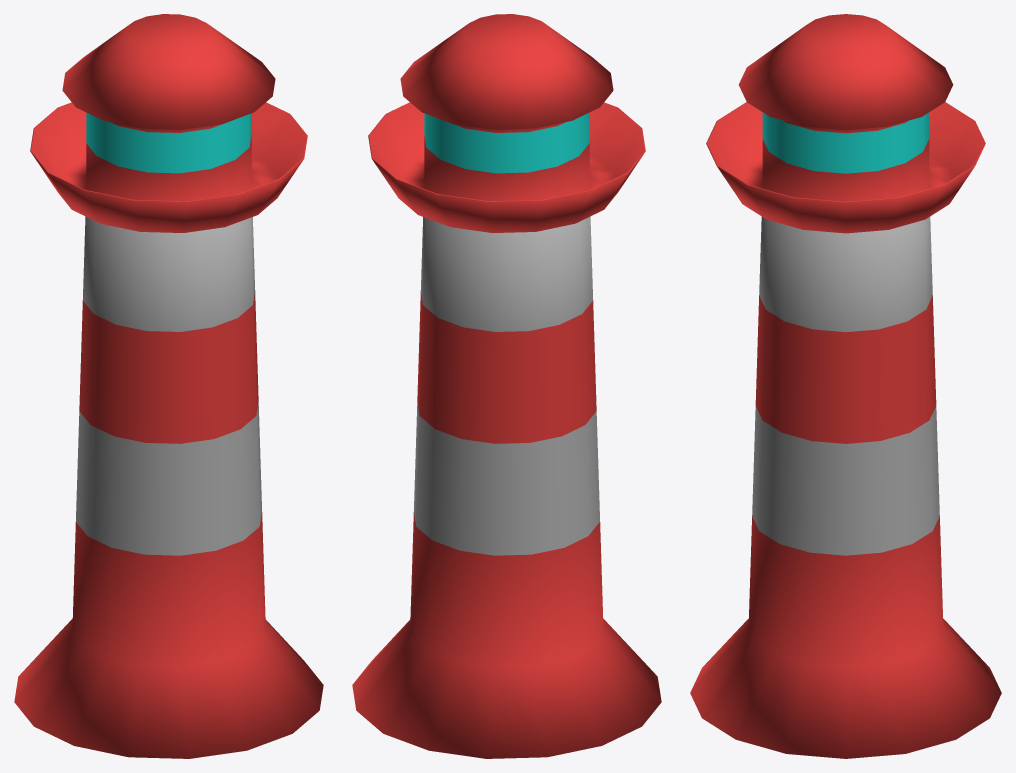
The model's file is LighhouseModel.glb.
3 views of the same model, side by side, from view 1: azimuth 30°, elevation 25°; view 2: azimuth 150°, elevation 25°; view 3: azimuth 270°, elevation 25° (orthographic).
Visible parts, largest first — view 1: Farol; view 2: Farol; view 3: Farol.
Boxes of the visible parts, x1=… form: Farol: x1=14, y1=14, x2=323, y2=758; Farol: x1=352, y1=14, x2=661, y2=758; Farol: x1=690, y1=14, x2=1001, y2=758.
Bounding box in the file's own units: 0.6961 × 1.63 × 0.6961.
